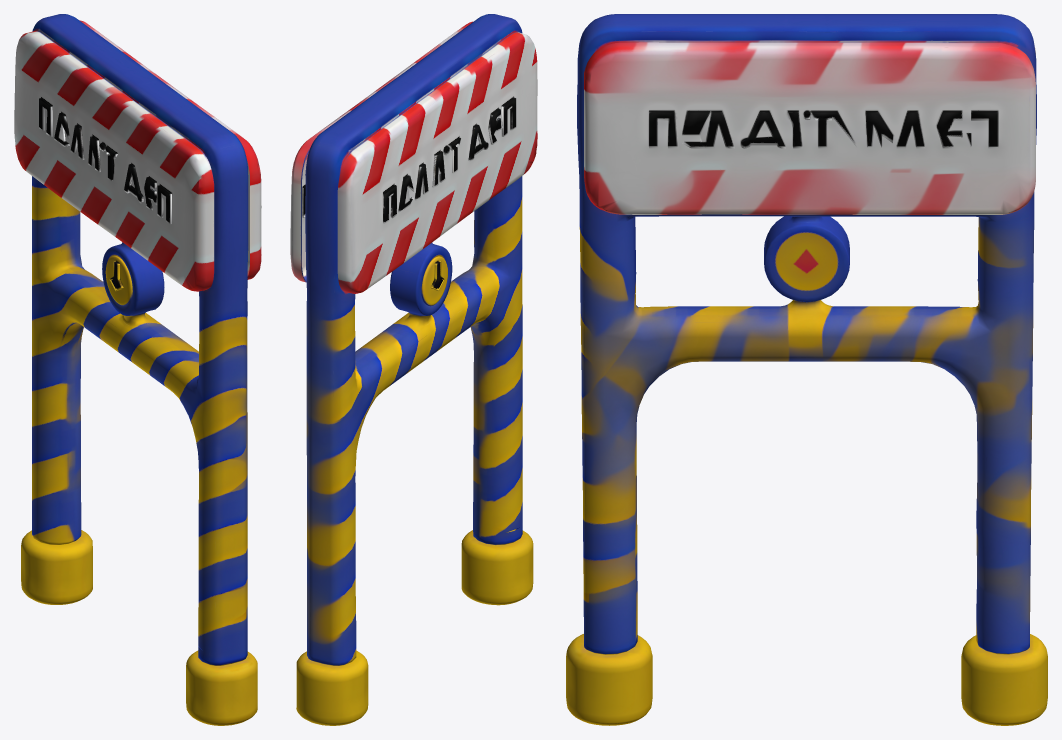
File: obstacle_slide_barrier.glb
3 renders of one model, left to right at view 1: azimuth 30°, elevation 25°; view 2: azimuth 150°, elevation 25°; view 3: azimuth 270°, elevation 25°, orthographic. The views are drawn at different scales.
Visible parts, largest first — view 1: a36ab175_e746_47e4_b179_3b1bbc3e490e; view 2: a36ab175_e746_47e4_b179_3b1bbc3e490e; view 3: a36ab175_e746_47e4_b179_3b1bbc3e490e.
Boxes of the visible parts, bbox=[...] form: a36ab175_e746_47e4_b179_3b1bbc3e490e: bbox=[14, 14, 261, 725]; a36ab175_e746_47e4_b179_3b1bbc3e490e: bbox=[290, 14, 537, 725]; a36ab175_e746_47e4_b179_3b1bbc3e490e: bbox=[566, 14, 1047, 725].
Size of the model in its own units: 0.1255 by 0.9995 by 0.6313.
1 material, 1 textured.
